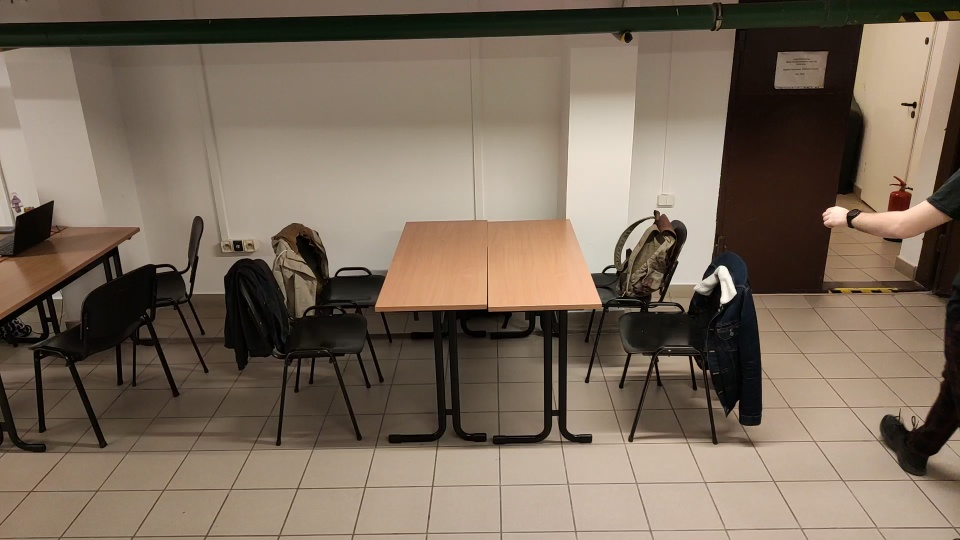chair: (30, 263, 183, 451), (220, 256, 373, 443), (619, 252, 765, 445), (272, 222, 395, 386), (583, 217, 688, 391), (131, 214, 213, 390)
table: (373, 218, 609, 446)
